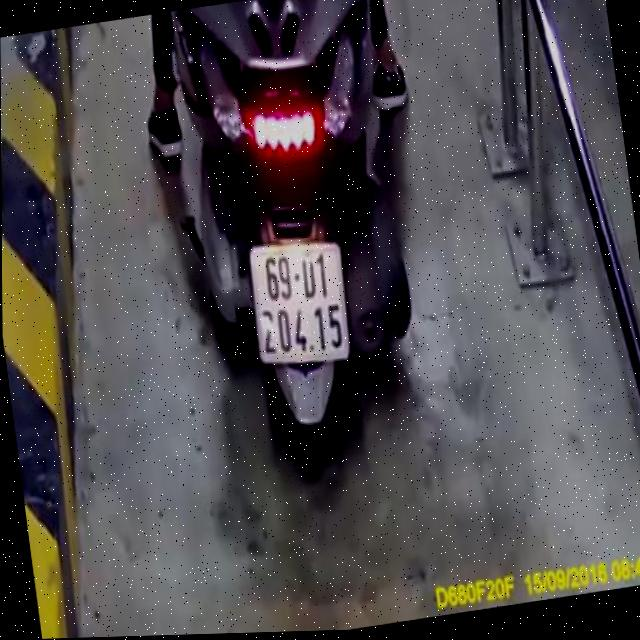motorcycle: (153, 0, 441, 480)
plate: (240, 225, 359, 377)
